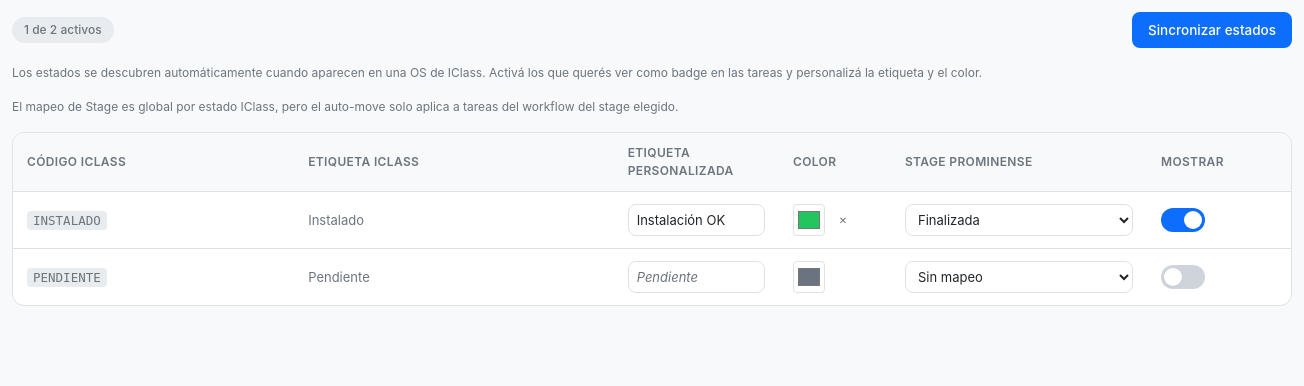
Test: IClassStatusCatalogBody › shows success banner after sync with synced count
The width and height of the screenshot is (1304, 386).
Click the button "Sincronizar estados". click: (1212, 30)
box: [1132,12,1292,48]
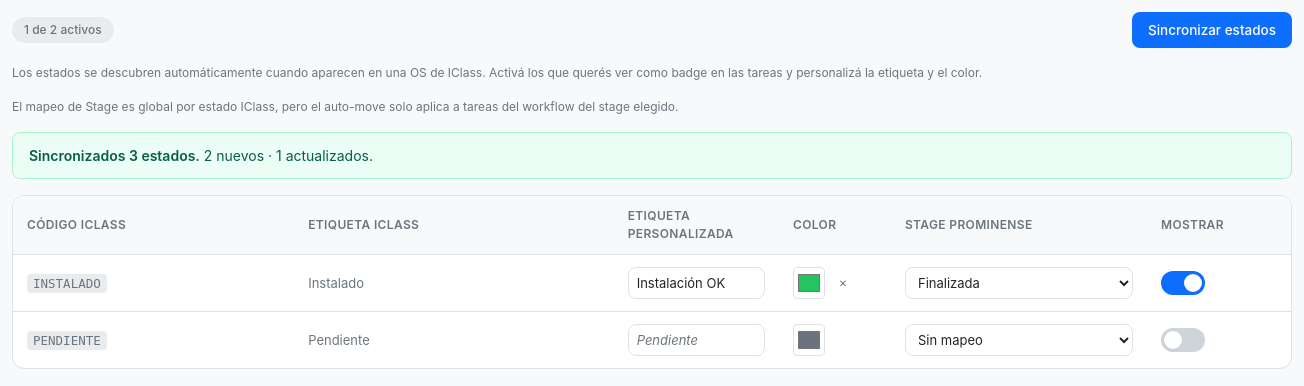
Expected: the text "Sincronizados 3 estados." is shown, [29,147,200,164]
Expected: the text "Sincronizados 3 estados. 2 nuevos · 1 actualizados." is shown, [29,145,373,166]
